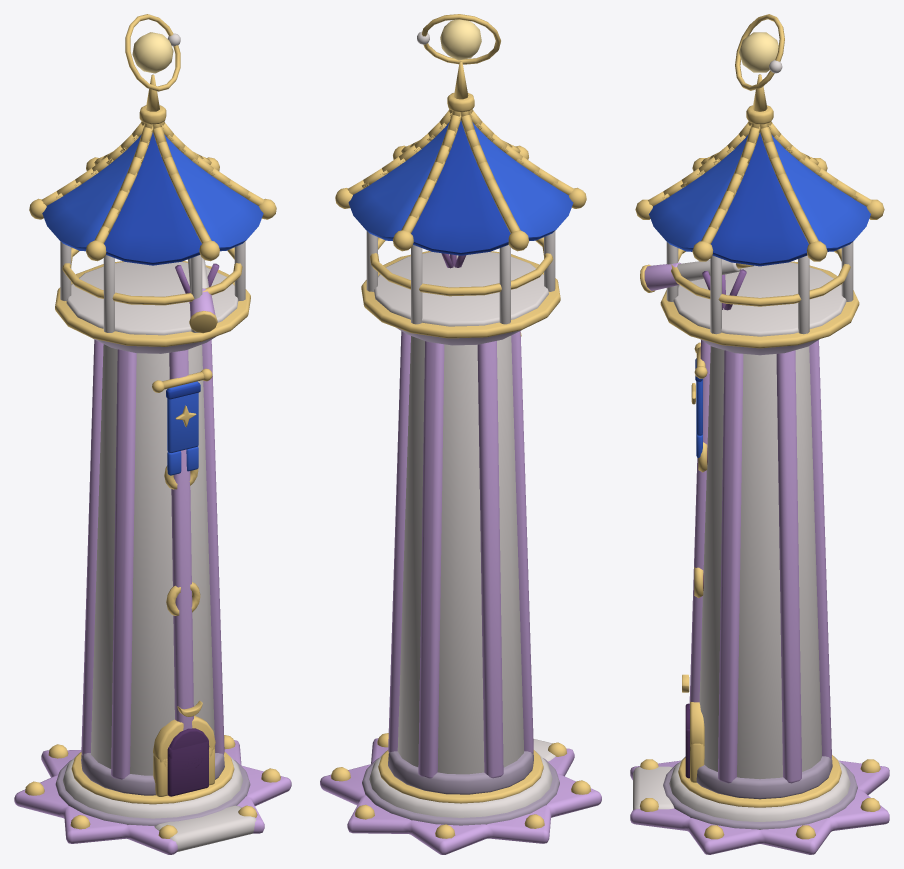
File: Watchtower.glb
The picture shows the model from 3 angles, left to right: view 1: azimuth 30°, elevation 25°; view 2: azimuth 150°, elevation 25°; view 3: azimuth 270°, elevation 25°; orthographic projection.
Visible parts, largest first — view 1: Watchtower; view 2: Watchtower; view 3: Watchtower.
Part boxes in pixels (x1=…): Watchtower: x1=14, y1=14, x2=291, y2=854; Watchtower: x1=320, y1=14, x2=601, y2=854; Watchtower: x1=630, y1=14, x2=889, y2=854.
Bounding box in the file's own units: 1.78 × 5.91 × 1.78.
